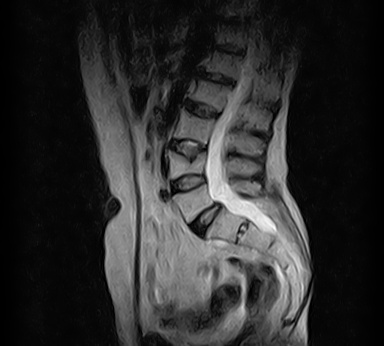L1,v2: (204, 51, 245, 74)
L1-L2,v1: (197, 65, 238, 88)
L2,v2: (190, 84, 231, 107)
L2-L3,v1: (180, 98, 221, 121)
L3,v2: (173, 116, 214, 139)
L3-L4,v5: (168, 136, 209, 159)
L4,v2: (166, 156, 207, 179)
L4-L5,v1: (168, 173, 209, 196)
L5,v2: (173, 190, 214, 213)
L5-S1,v2: (186, 206, 227, 229)
T12-L1,v1: (209, 39, 250, 62)
